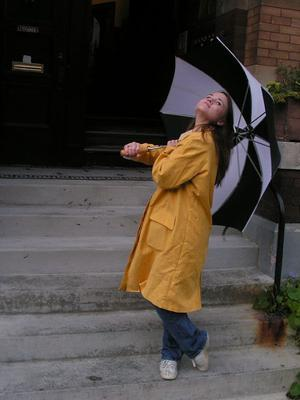person: (123, 91, 234, 382)
